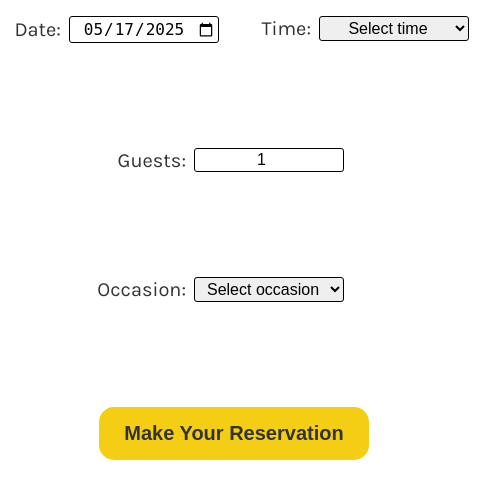
Test: Input validation tests › shows a validation error message when date input is empty
Clear the date field labelled "Date:" at (144, 30), box [69, 16, 219, 43]
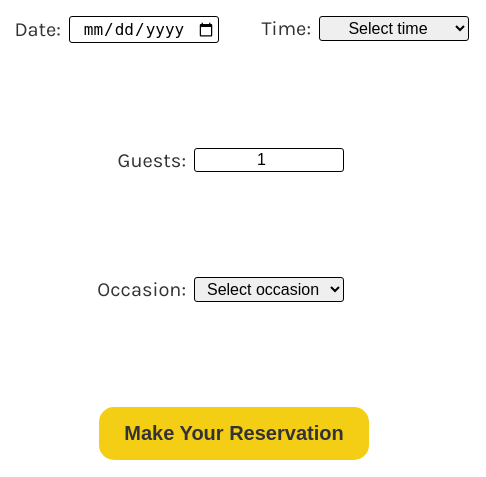
Leave the date field labelled "Date:", box [69, 16, 219, 43]
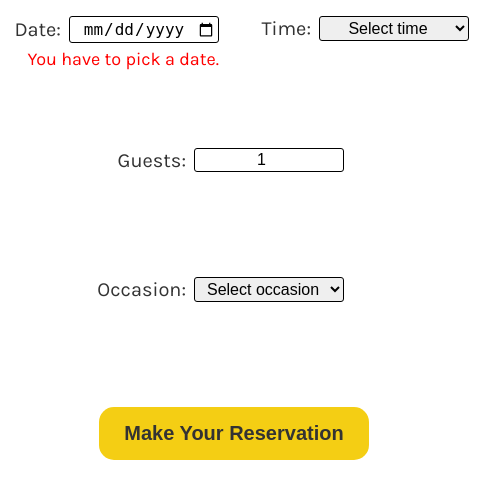
Now the text "You have to pick a date." is shown 2 times
